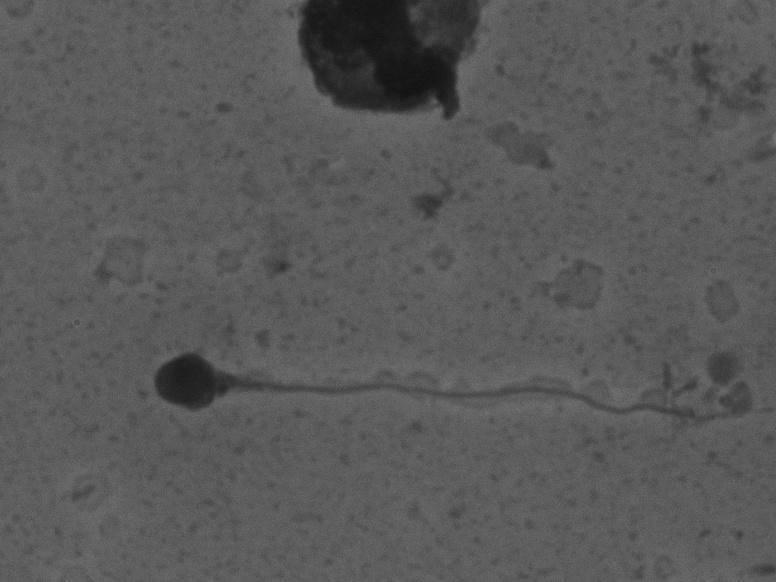Abnormal: (127, 344, 754, 455)
